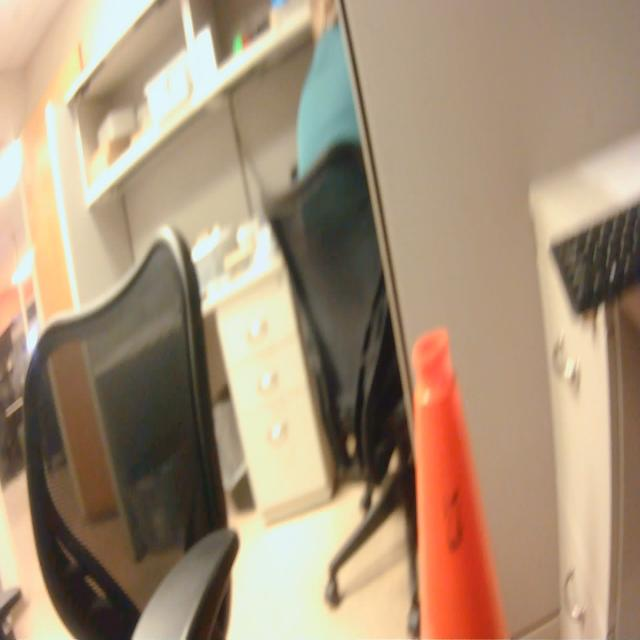traffic cone: (406, 325, 516, 640)
